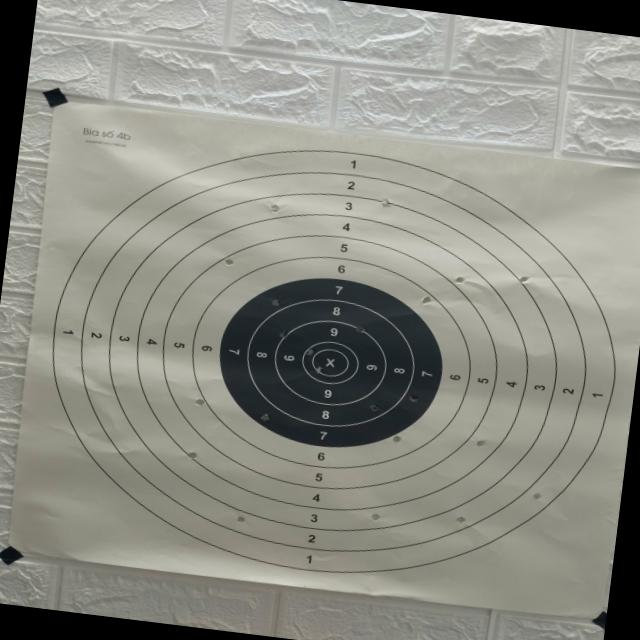bullet: (421, 296, 431, 304), (314, 366, 324, 374), (532, 492, 542, 500), (381, 198, 390, 206), (271, 203, 279, 212), (370, 404, 379, 412), (519, 276, 529, 283), (476, 439, 486, 446), (194, 398, 204, 405), (455, 516, 465, 523), (224, 258, 233, 265), (392, 435, 401, 442), (260, 414, 269, 421), (188, 452, 197, 459), (271, 298, 278, 306), (279, 330, 286, 338), (305, 348, 313, 355), (409, 395, 417, 402), (236, 516, 244, 523), (370, 514, 379, 520), (455, 277, 463, 282), (356, 327, 364, 331)
target: (11, 104, 640, 616)
